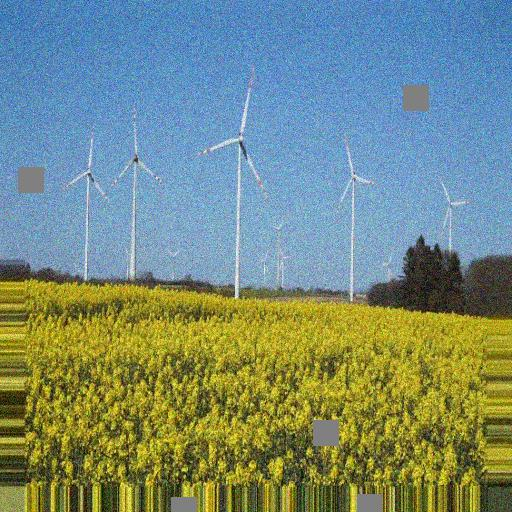wind turbine: (194, 64, 269, 296), (110, 104, 166, 279), (62, 130, 109, 280), (337, 132, 377, 293), (436, 179, 472, 254)
